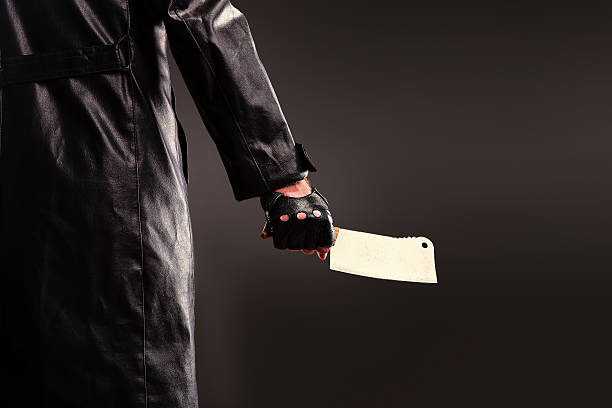knife: (260, 219, 438, 285)
